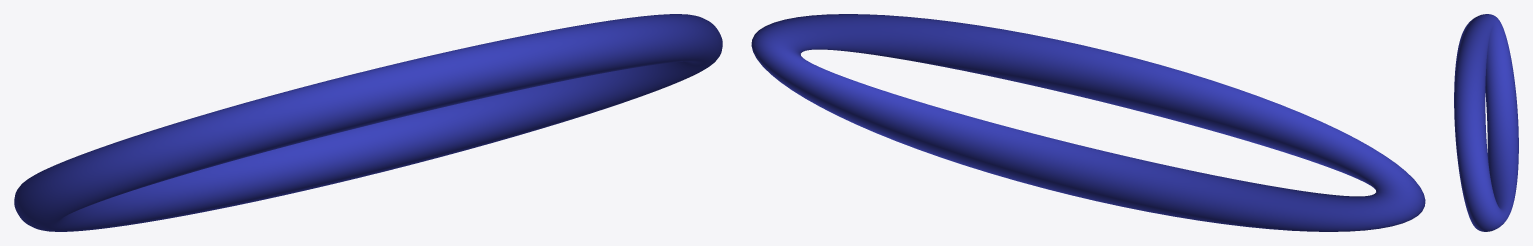
The model's file is zcollar-blu-3d.glb.
3 views of the same model, side by side, from view 1: azimuth 30°, elevation 25°; view 2: azimuth 150°, elevation 25°; view 3: azimuth 270°, elevation 25° (orthographic). The views are drawn at different scales.
Visible parts, largest first — view 1: mesh_id38; view 2: mesh_id38; view 3: mesh_id38.
Part boxes in pixels (box(x1,y1,x2,y2)): mesh_id38: box(14, 14, 722, 231); mesh_id38: box(751, 14, 1425, 231); mesh_id38: box(1454, 14, 1518, 231).
Bounding box in the file's own units: 0.3199 × 0.0551 × 0.0436.
Materials: 1 (1 with a texture image).
